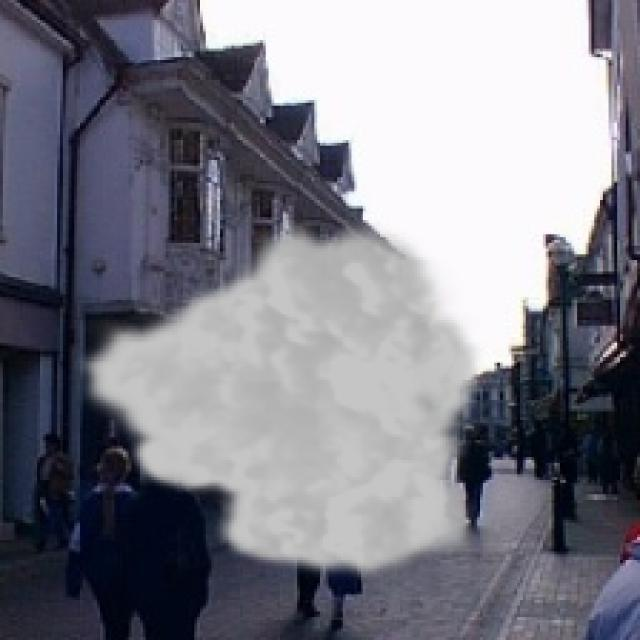Smoke: (71, 214, 486, 583)
